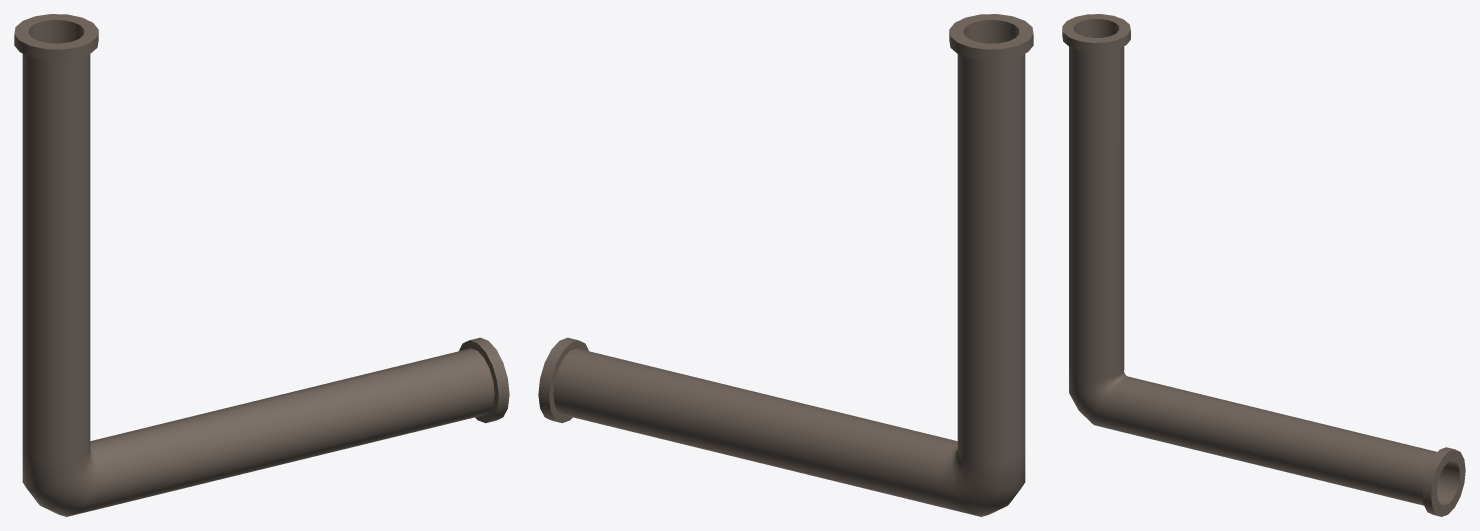
Rendered from pipe_corner_3.fbx.
3 renders of one model, left to right at view 1: azimuth 30°, elevation 25°; view 2: azimuth 150°, elevation 25°; view 3: azimuth 330°, elevation 25°, orthographic. The views are drawn at different scales.
Parts seen in each view (by area): view 1: pipe_corner_3; view 2: pipe_corner_3; view 3: pipe_corner_3.
Part boxes in pixels (<box>): pipe_corner_3: <box>14,14,509,516</box>; pipe_corner_3: <box>538,14,1033,516</box>; pipe_corner_3: <box>1062,14,1465,516</box>.
Size of the model in its own units: 396 by 396 by 62.09.
